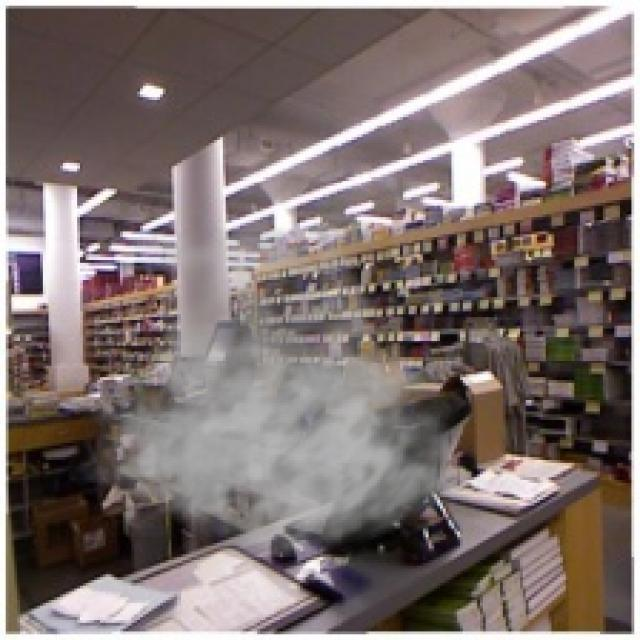Smoke: (68, 195, 474, 560)
